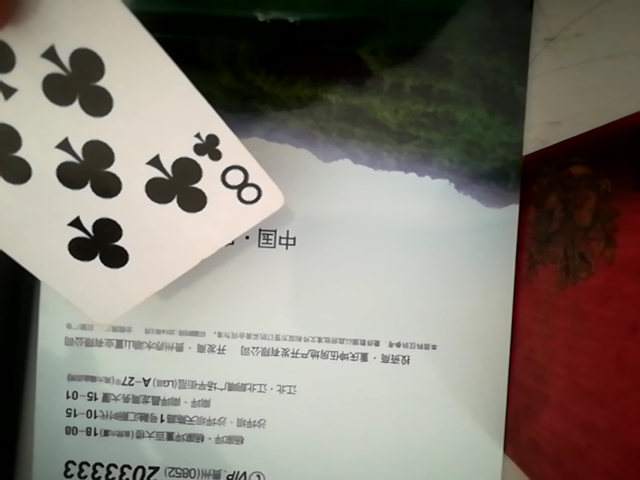mh 8: (0, 0, 276, 336)
